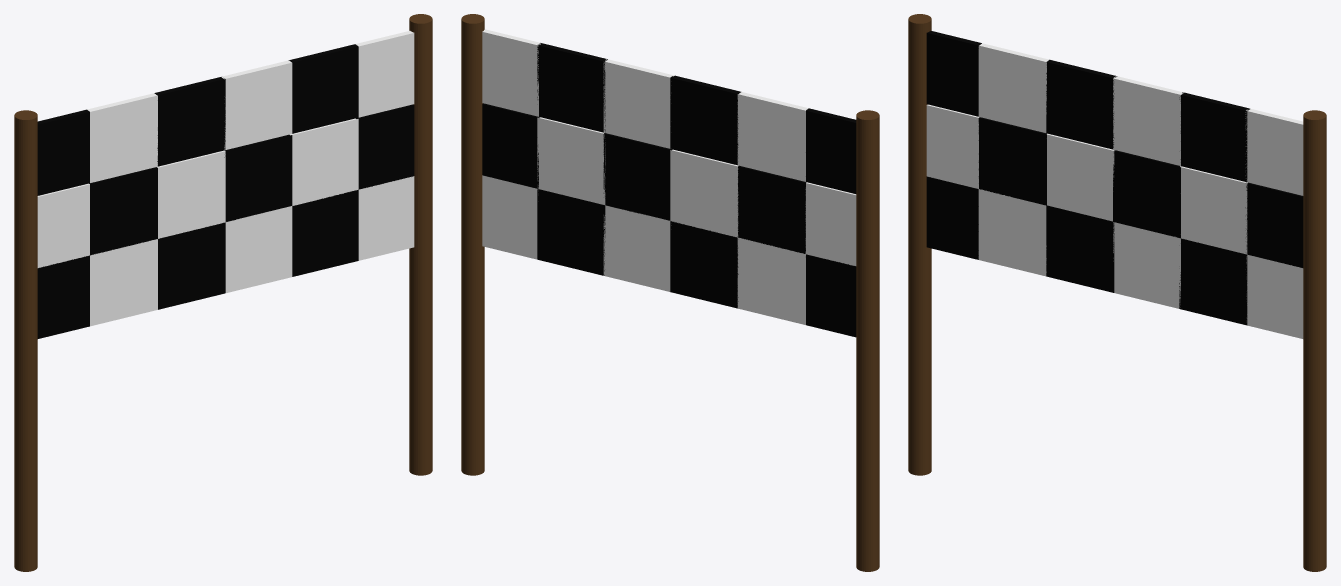
The model's file is LineaMeta.fbx.
3 views of the same model, side by side, from view 1: azimuth 30°, elevation 25°; view 2: azimuth 150°, elevation 25°; view 3: azimuth 330°, elevation 25° (orthographic).
Parts seen in each view (by area): view 1: LineaMeta; view 2: LineaMeta; view 3: LineaMeta.
Boxes of the visible parts, x1,y1,x2,y2 form: LineaMeta: (14, 14, 432, 571); LineaMeta: (461, 14, 879, 571); LineaMeta: (908, 14, 1326, 571).
Bounding box in the file's own units: 282 × 294 × 13.67.
1 material, 1 textured.
